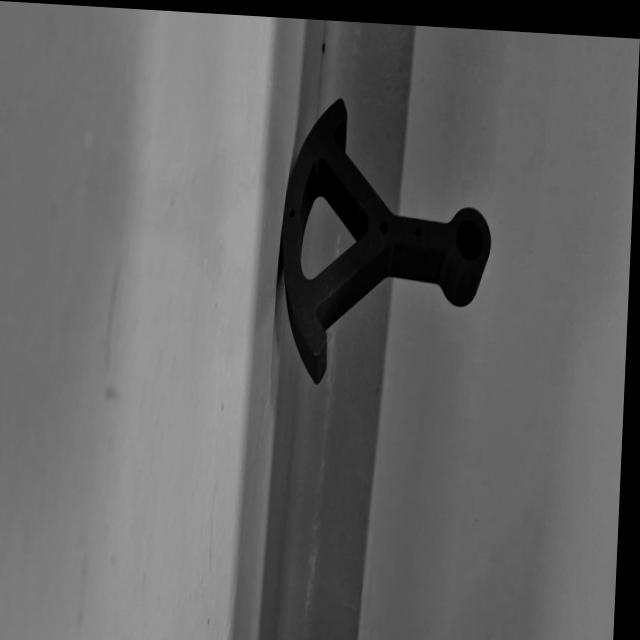haptic: (274, 91, 499, 397)
